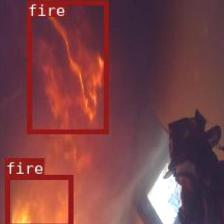fire: (26, 0, 107, 132), (4, 173, 71, 224)
